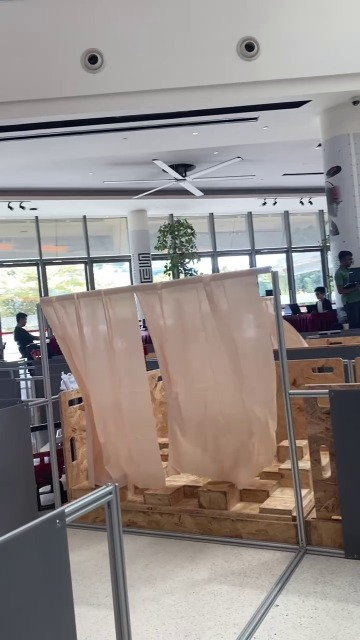curtain: (29, 269, 270, 499)
